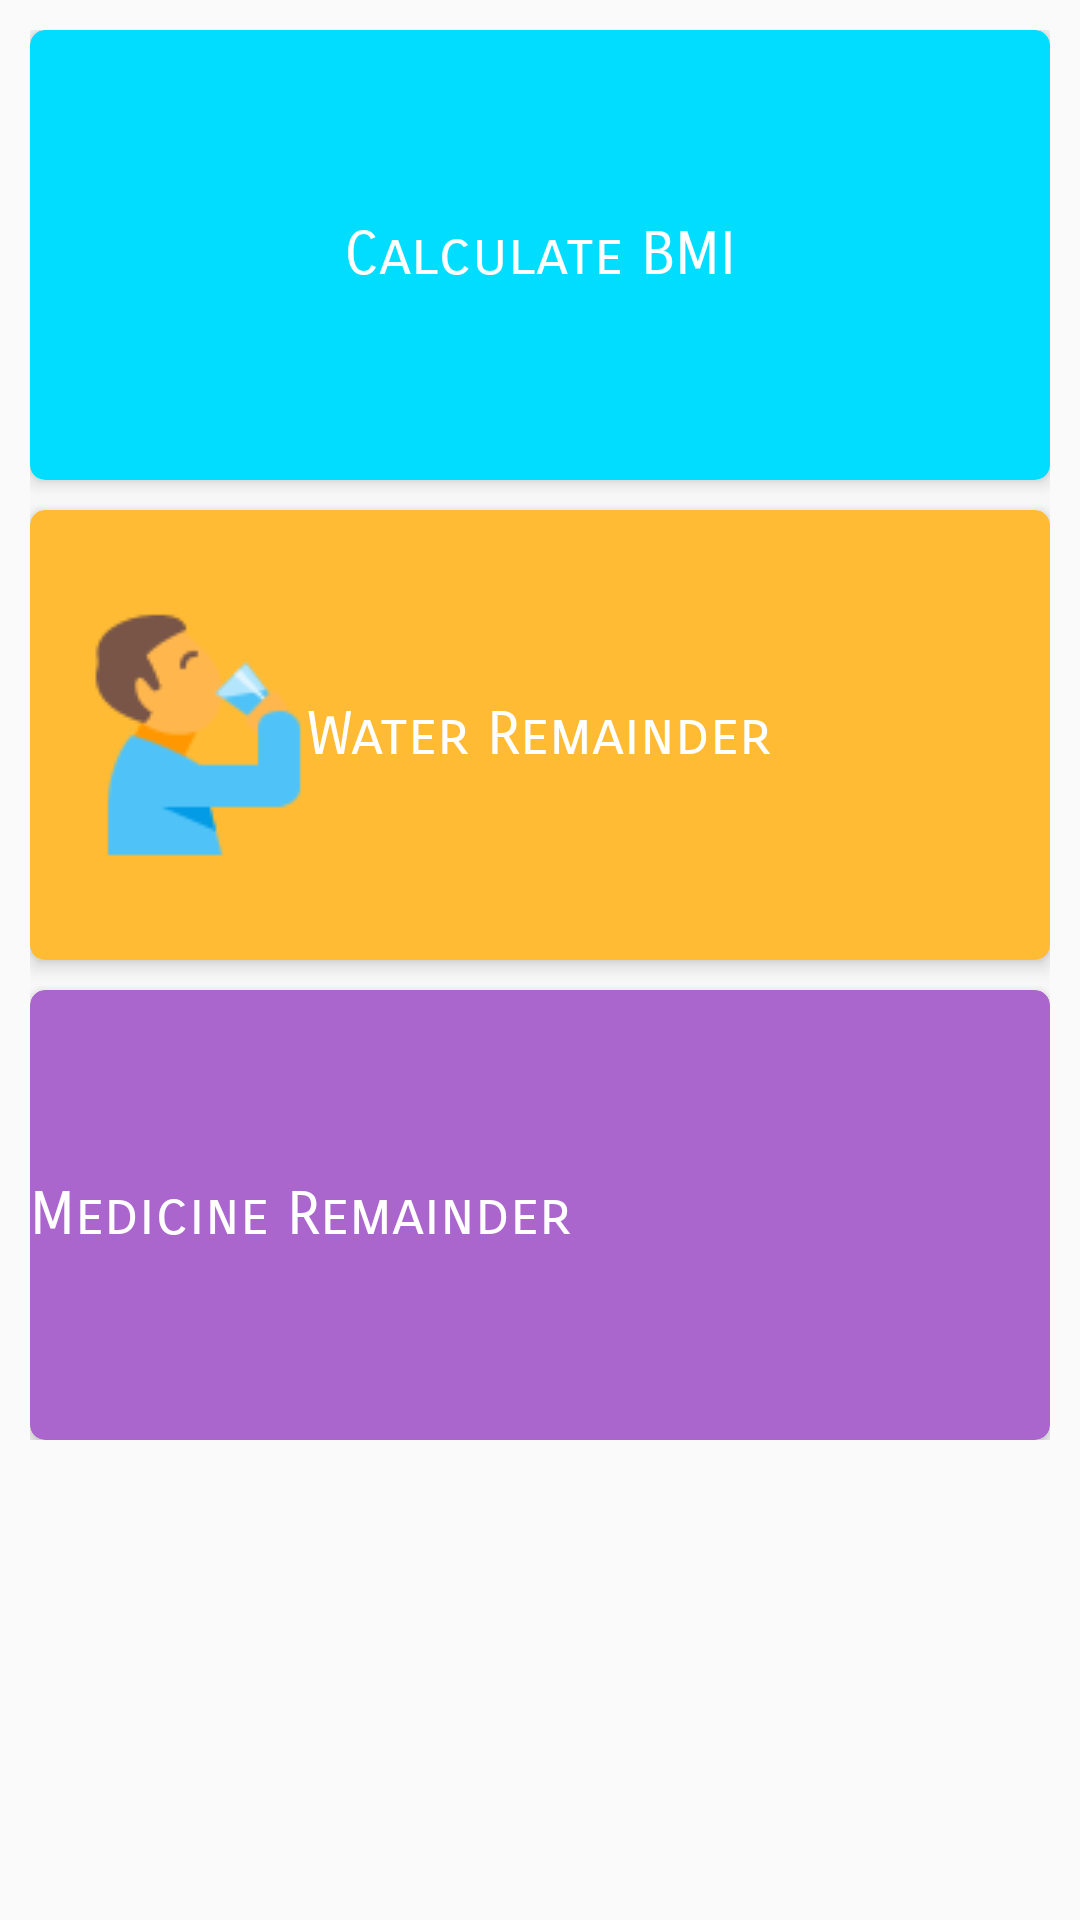

Named icons in this screenshot (1080 x 1920) and their centers, (x=x, y=y):
drinkicon: (x=198, y=735)
